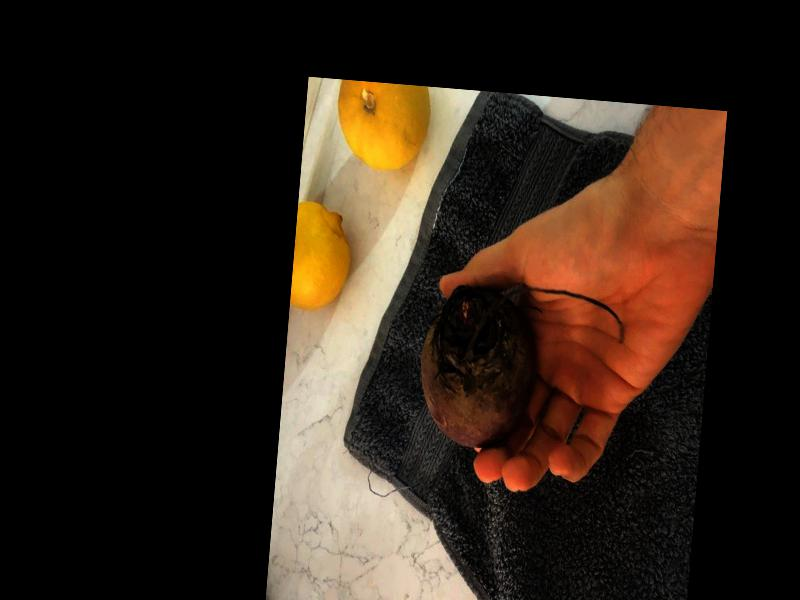Beet: (413, 283, 626, 461)
